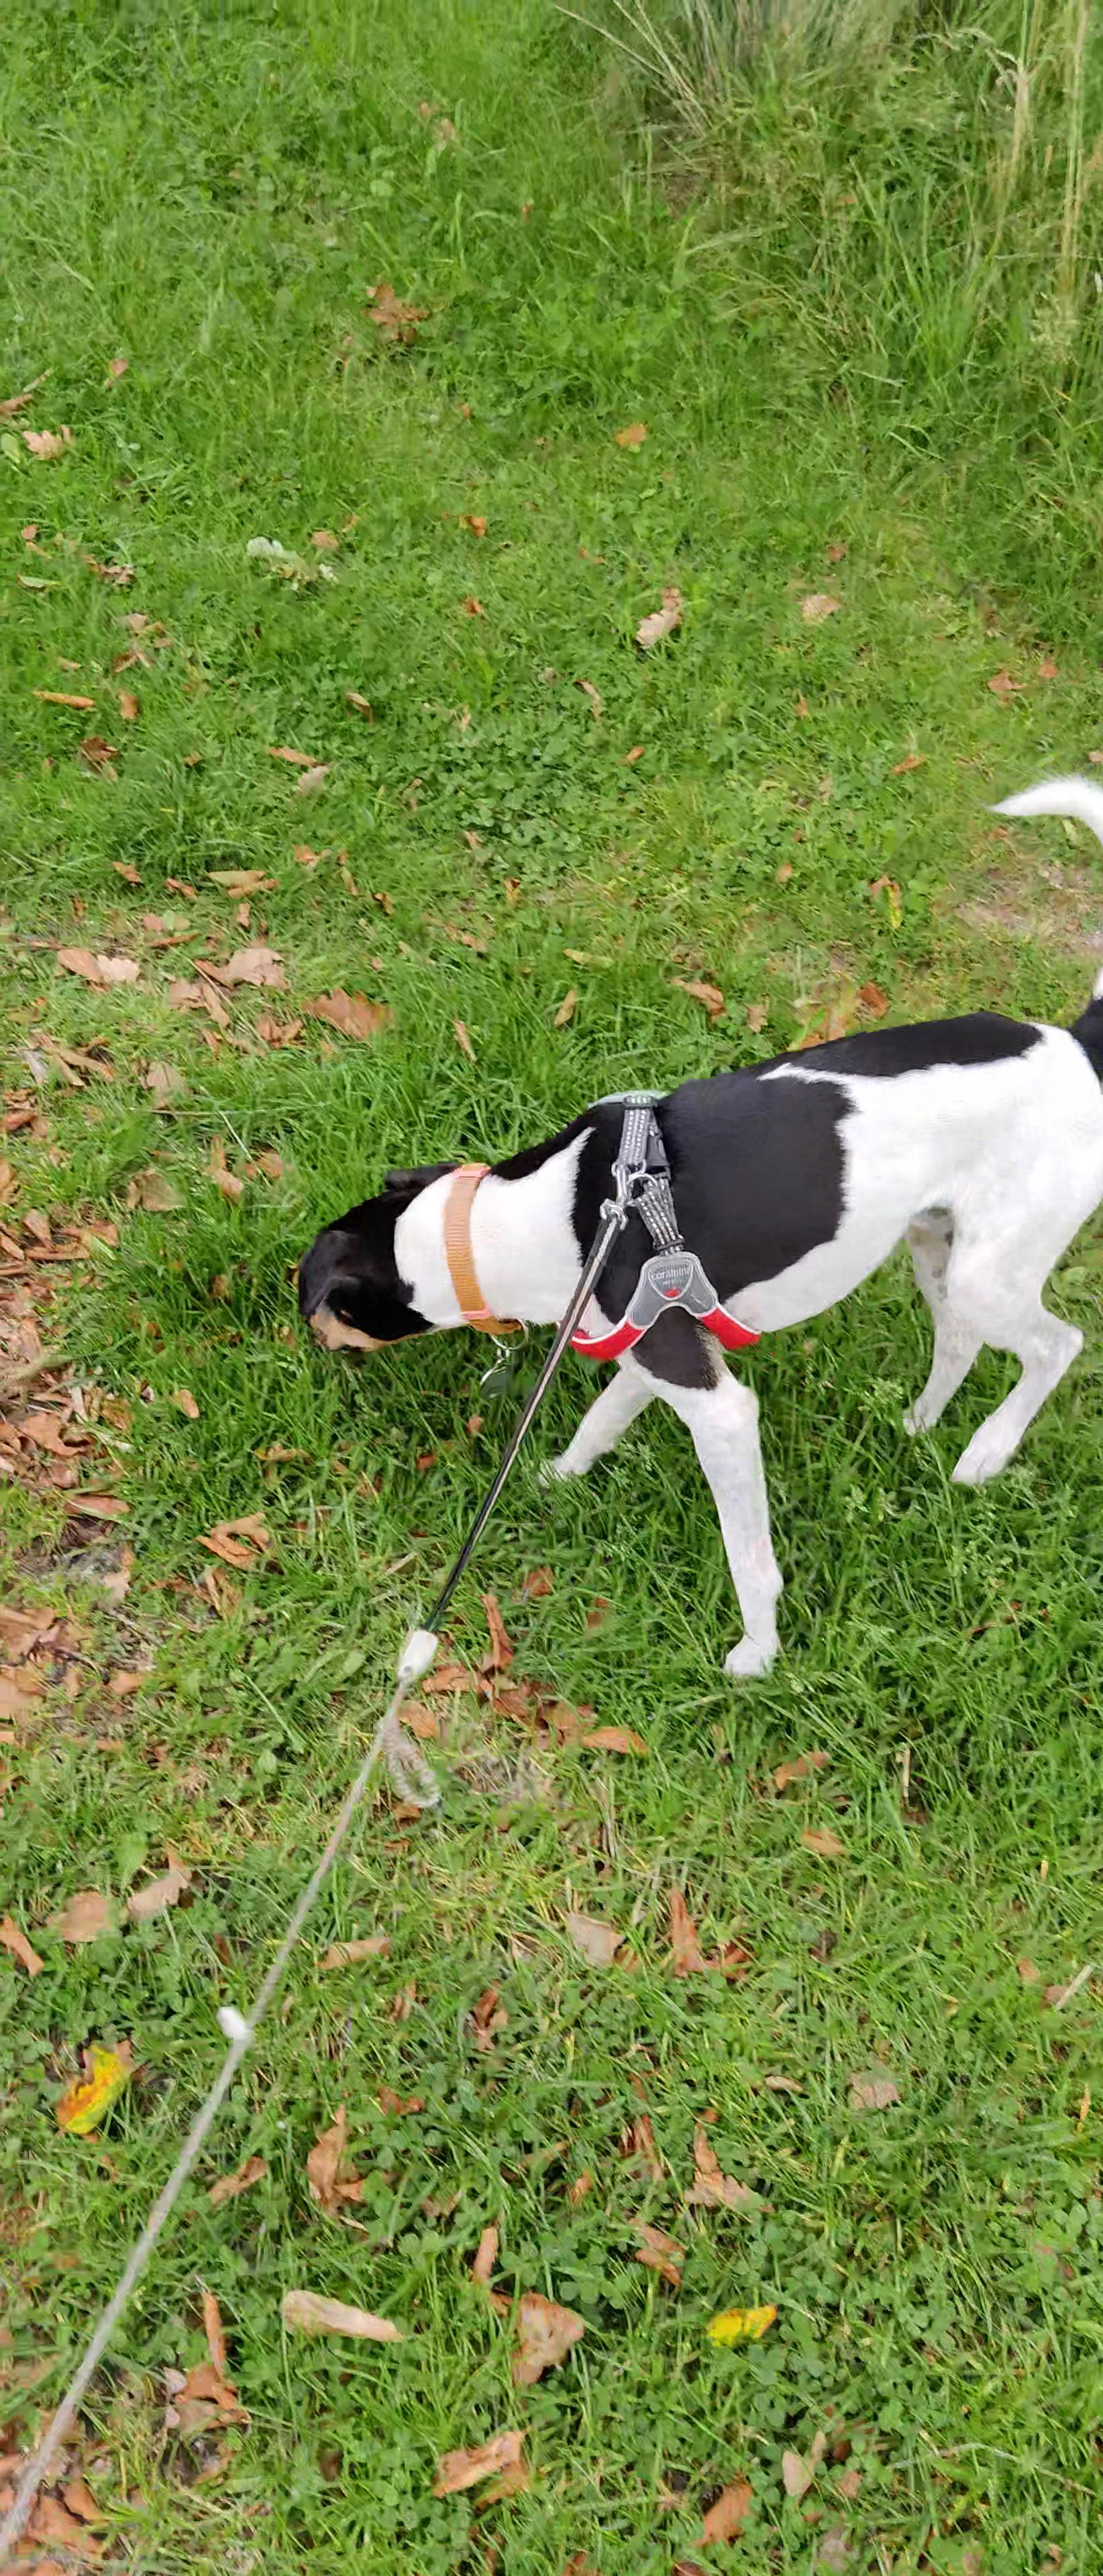Dog: (286, 738, 1103, 1699)
